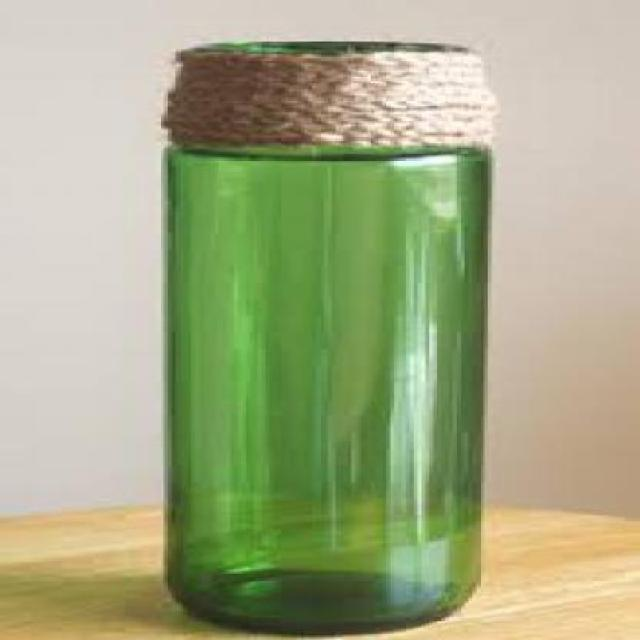kaca: (157, 40, 485, 634)
